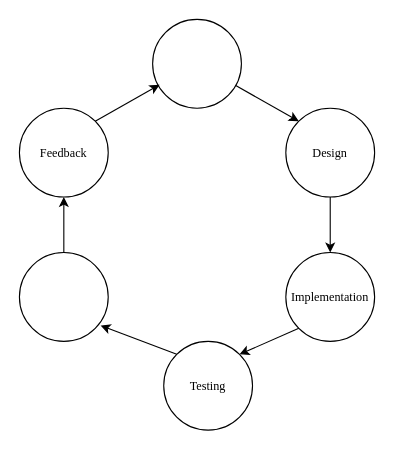
Image size: 394x450. Some labels were removed from this diagram. The centre of each missing label's shape, as x and y in pixels:
"Deployment" belongs at (x=63, y=296).
"Requirement Analysis" belongs at (x=196, y=63).
